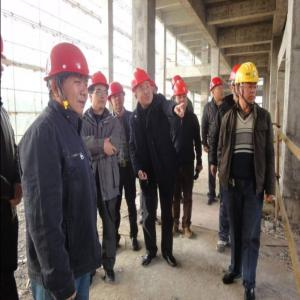red: (46, 41, 91, 117), (88, 72, 110, 111), (132, 68, 153, 108), (108, 82, 126, 112), (173, 81, 188, 111), (210, 76, 225, 101)
yellow: (237, 63, 259, 105)
